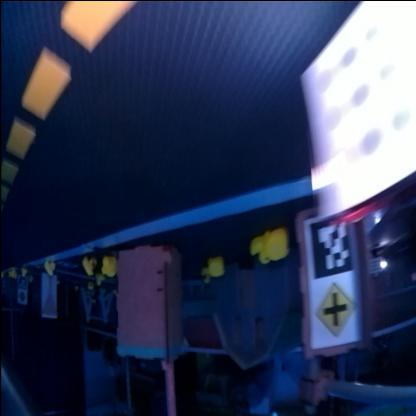Duckie: (263, 229, 286, 261), (250, 236, 266, 264), (208, 258, 224, 278), (101, 256, 116, 276), (82, 256, 95, 274), (43, 260, 56, 276), (200, 268, 210, 282), (97, 277, 103, 285), (86, 282, 92, 290), (21, 268, 27, 275)
Duckiebot: (298, 0, 416, 224)
Intersection sign: (315, 284, 355, 338)
QR code: (310, 218, 354, 278)
